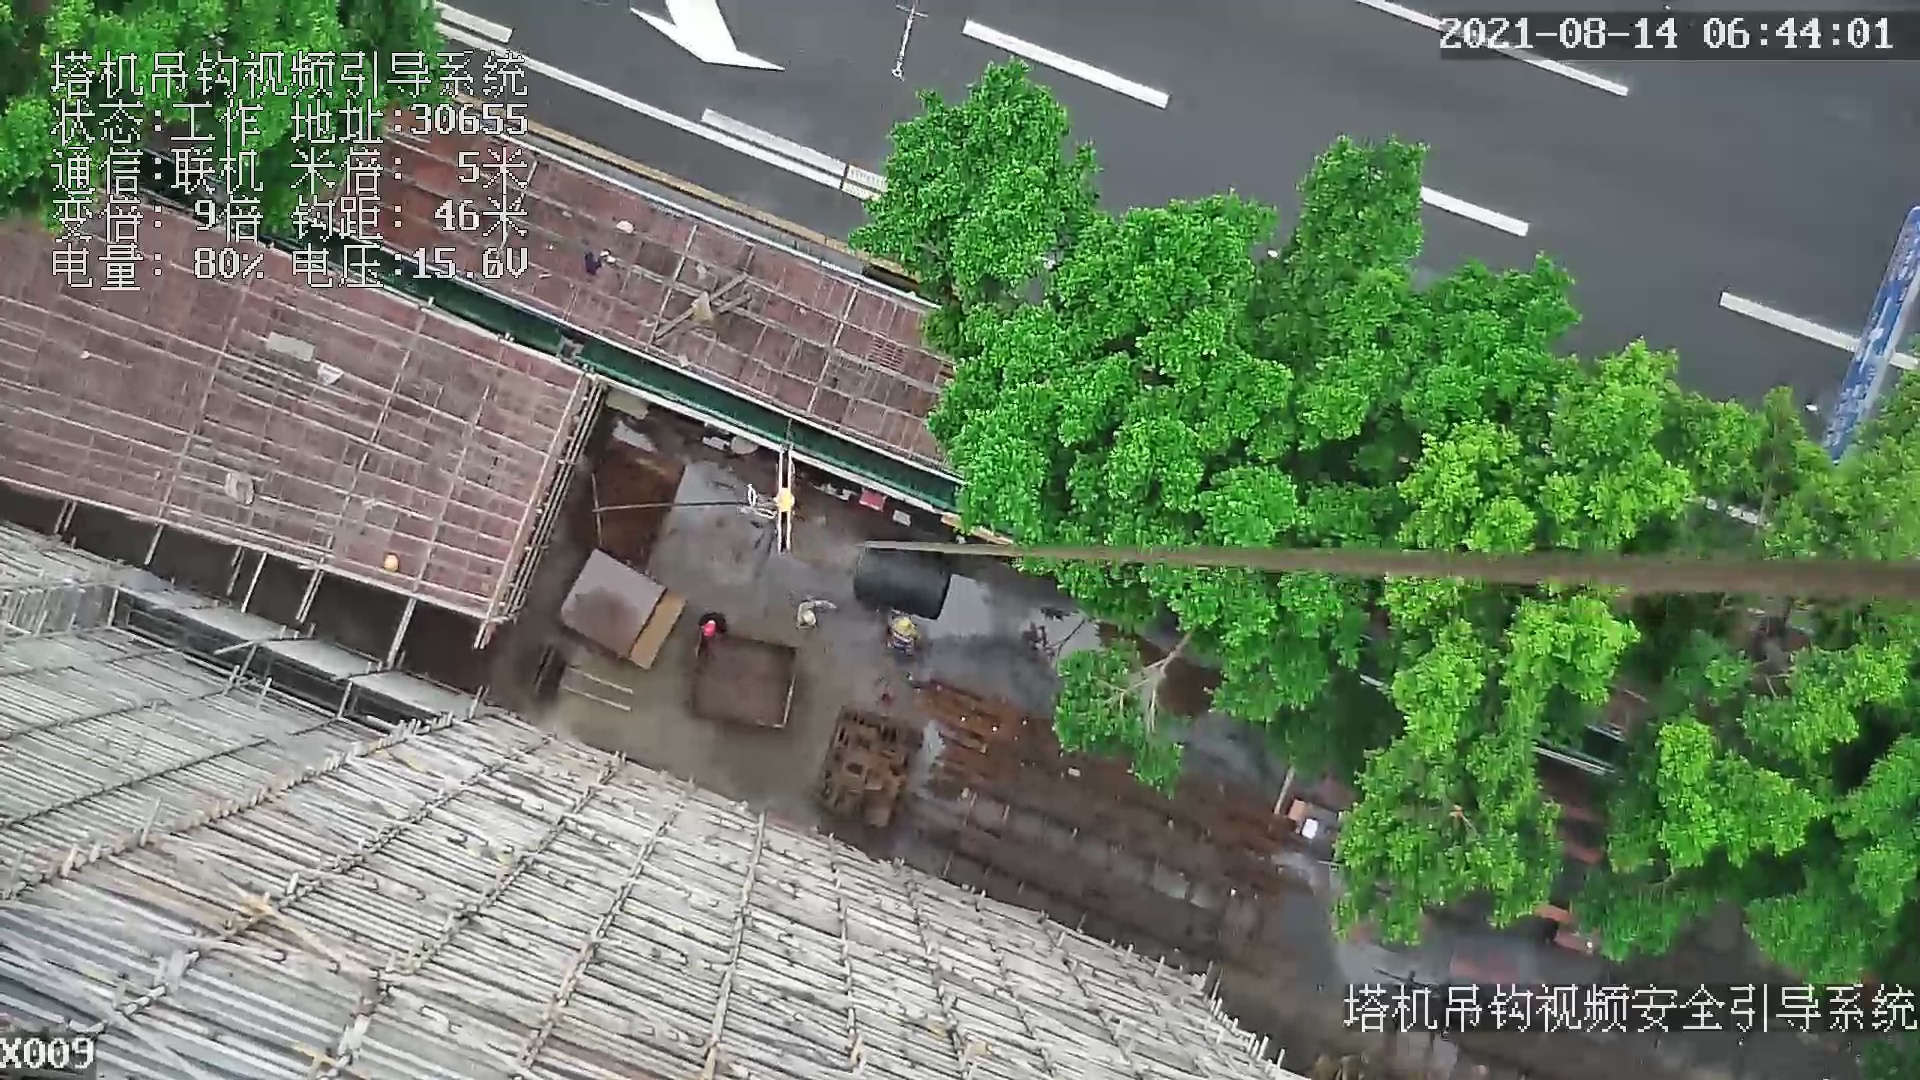helmet: (380, 555, 398, 576), (899, 616, 912, 632), (804, 611, 817, 625), (702, 624, 716, 635)
hook: (760, 446, 809, 554)
person: (685, 605, 733, 655), (794, 594, 841, 630), (879, 613, 922, 654)
